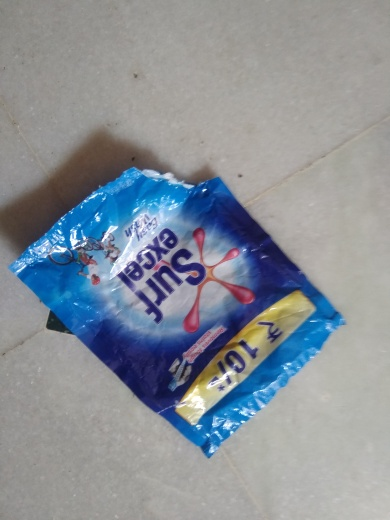surf: (7, 159, 350, 469)
